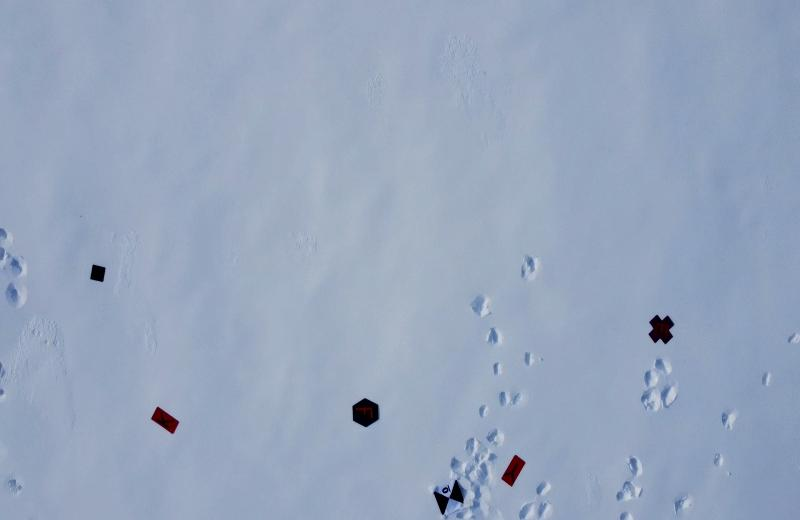Cross: (648, 315, 676, 344)
Hexagon: (349, 395, 381, 428)
Rectangle: (150, 404, 182, 438), (501, 450, 525, 486)
Square: (88, 260, 108, 282)
